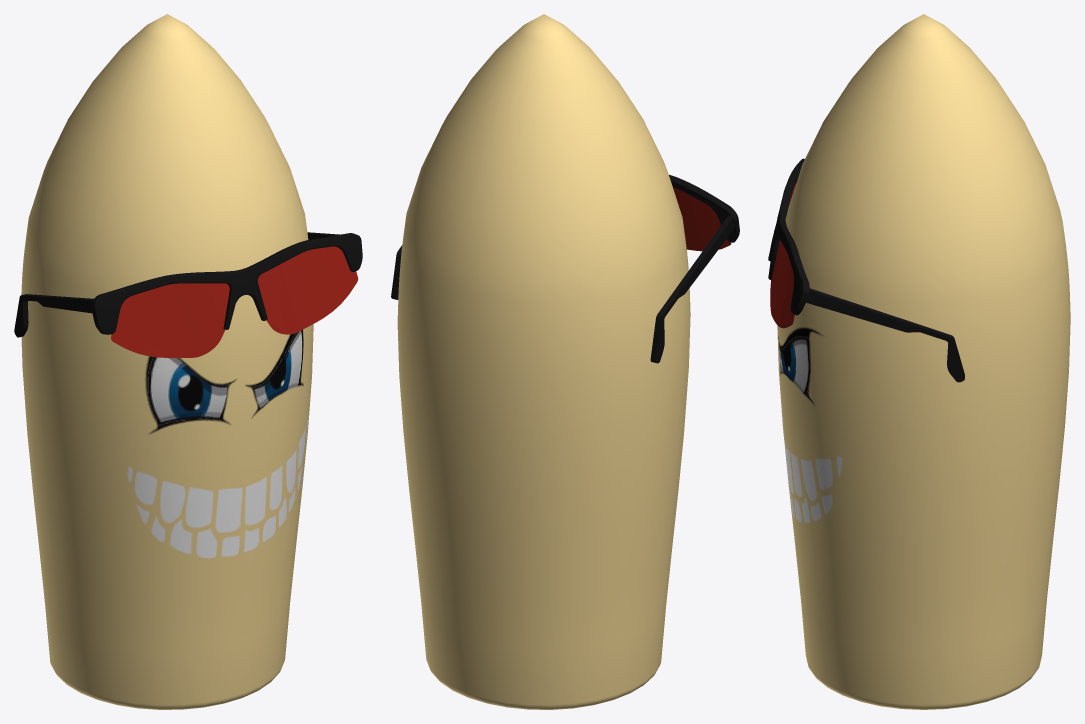
Rendered from bullet.fbx.
3 renders of one model, left to right at view 1: azimuth 30°, elevation 25°; view 2: azimuth 150°, elevation 25°; view 3: azimuth 270°, elevation 25°, orthographic.
Visible parts, largest first — view 1: Line001, Line002; view 2: Line001, Line002; view 3: Line001, Line002.
Boxes of the visible parts, x1,y1,x2,y2 form: Line001: [21, 14, 313, 709]; Line002: [14, 232, 362, 357]; Line001: [397, 14, 690, 709]; Line002: [391, 174, 739, 363]; Line001: [777, 14, 1070, 709]; Line002: [768, 158, 964, 382].
Size of the model in its own units: 309 by 717 by 302.
Materials: 3 (1 with a texture image).
